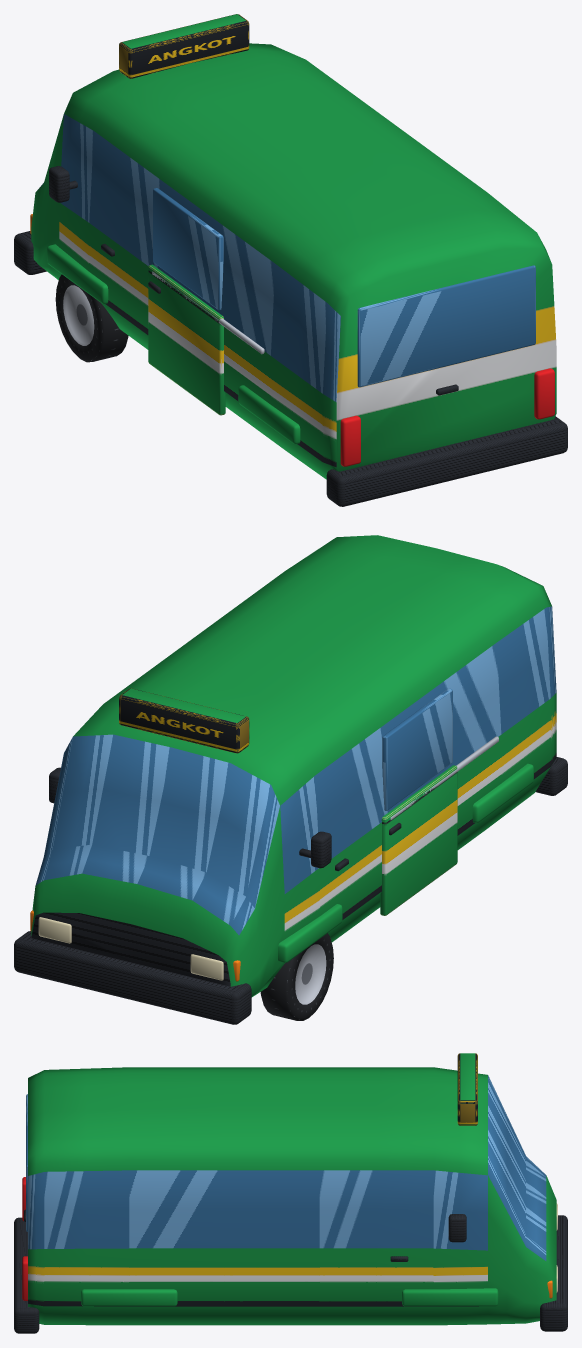
File: mobil_angkot.fbx
3 views of the same model, one above another, from view 1: azimuth 30°, elevation 25°; view 2: azimuth 150°, elevation 25°; view 3: azimuth 270°, elevation 25° (orthographic). The views are drawn at different scales.
Parts seen in each view (by area): view 1: ShellBody, WheelPiece; view 2: ShellBody, WheelPiece; view 3: ShellBody.
Part boxes in pixels (x1,y1,x2,y2): ShellBody: (14,14,567,506); WheelPiece: (55,274,128,362); ShellBody: (14,535,567,1024); WheelPiece: (260,933,333,1020); ShellBody: (14,1053,567,1333).
Size of the model in its own units: 8.17 by 8.29 by 17.
Materials: 1 (1 with a texture image).
